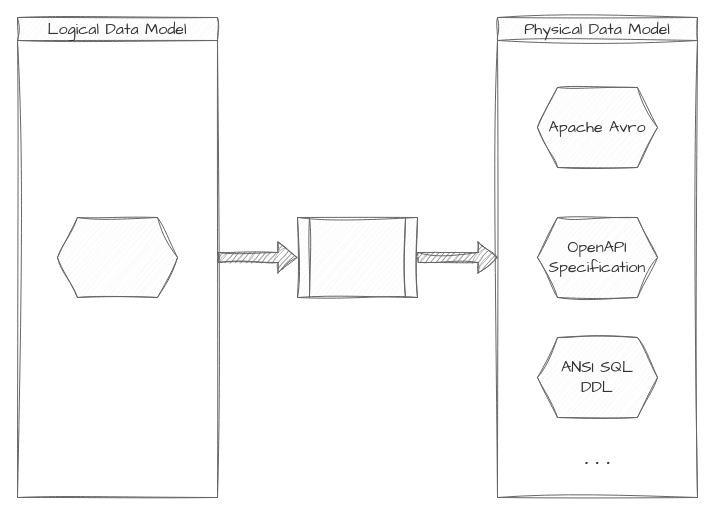
Image size: 715x515. Some labels were removed from this diagram. Each missing label, with the box of its shape:
Metamorph: (296, 216, 418, 298)
SHACL shapes graph: (56, 216, 178, 298)
